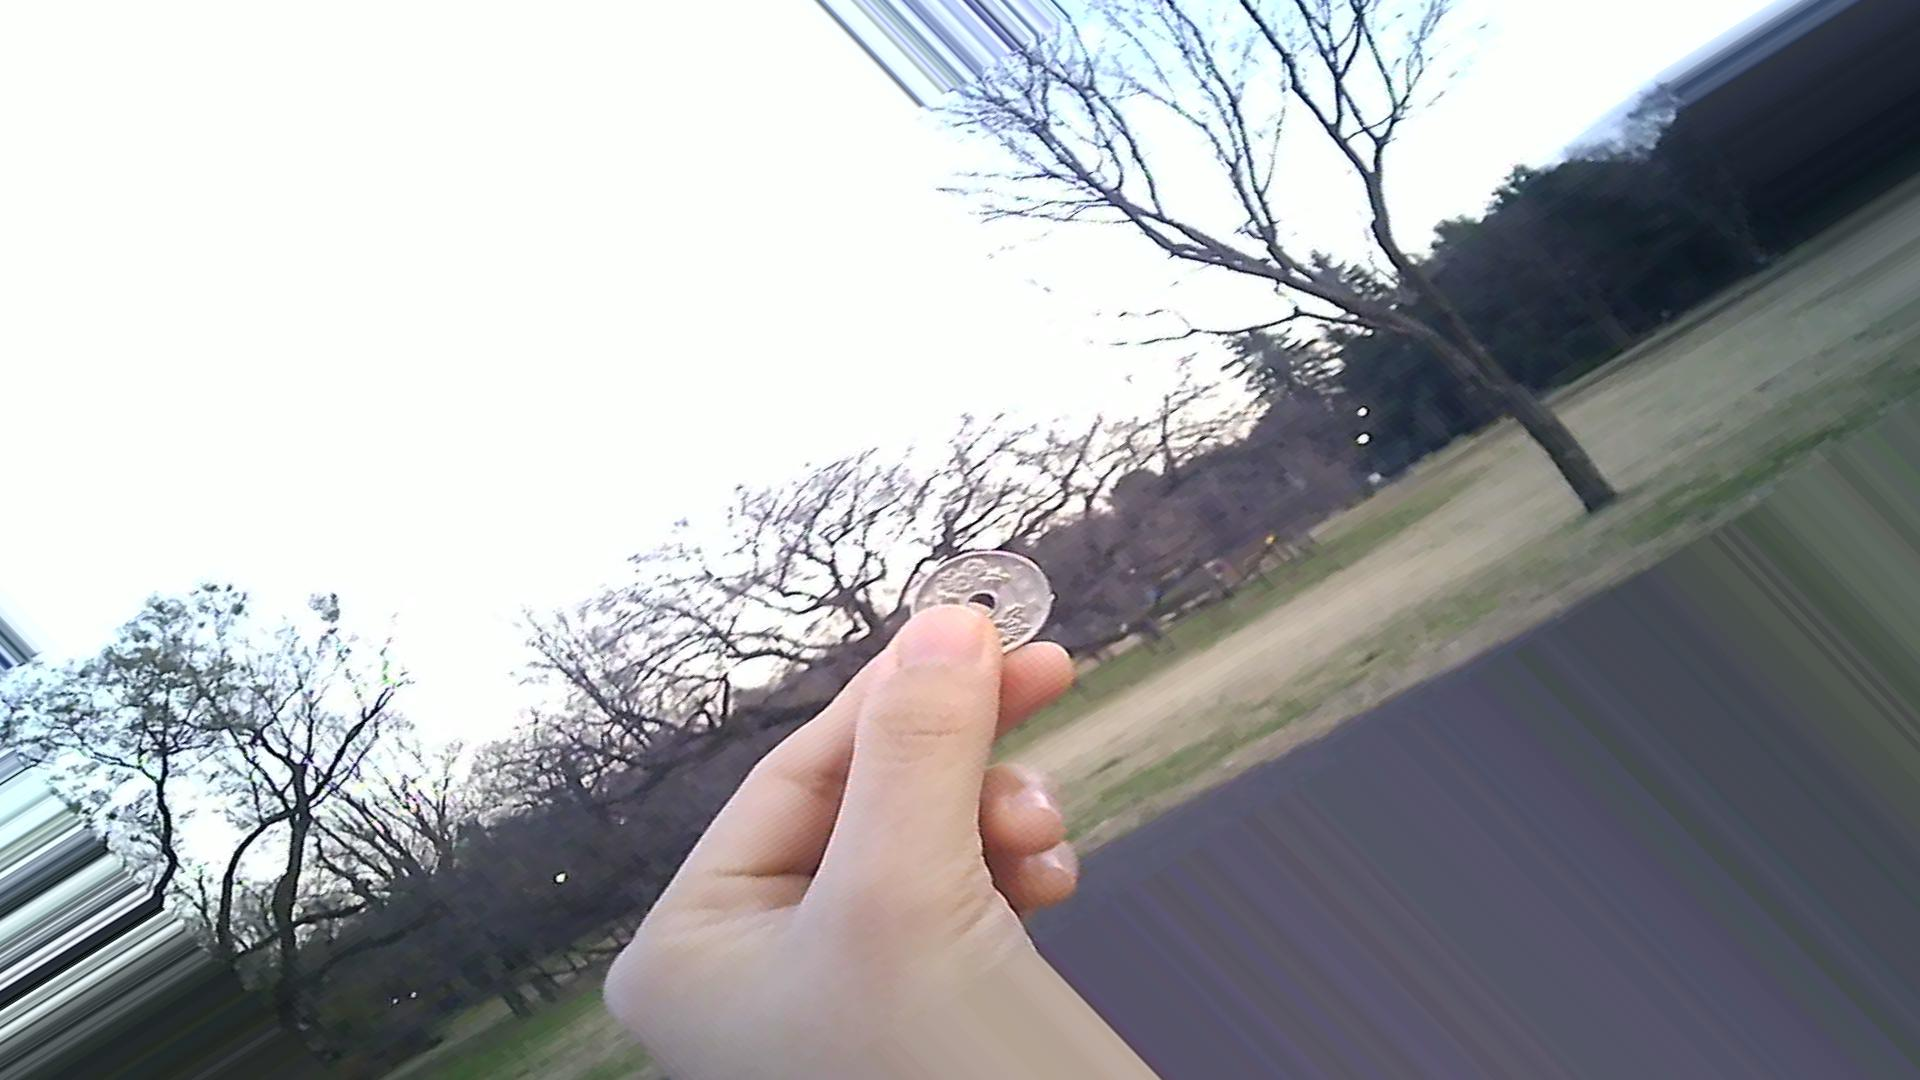50 Yen: (901, 542, 1062, 665)
